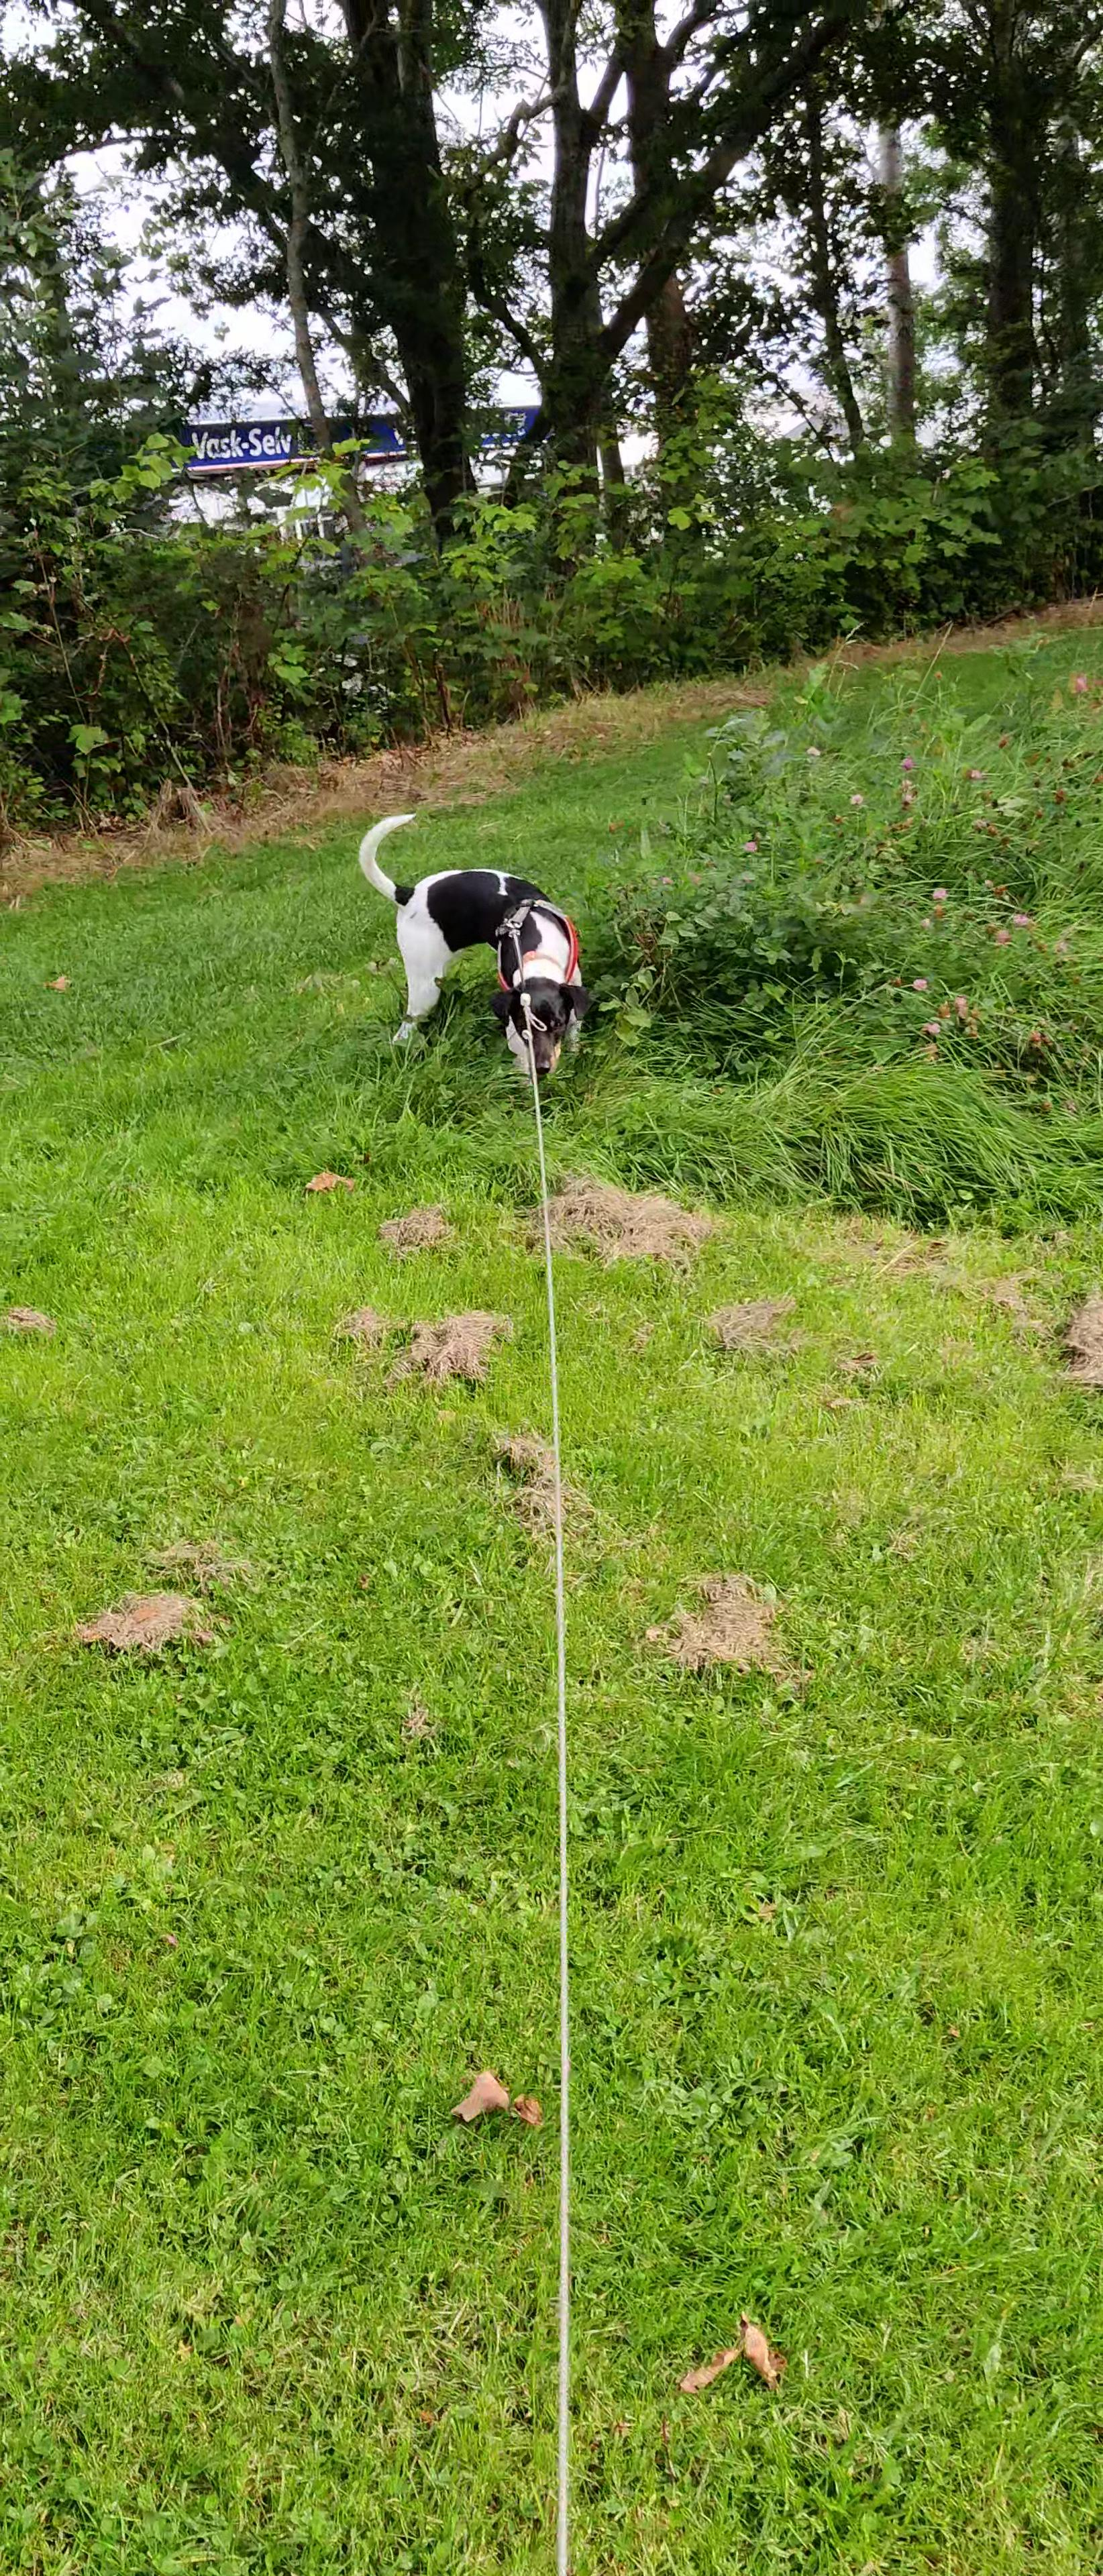Dog: (344, 795, 602, 1091)
